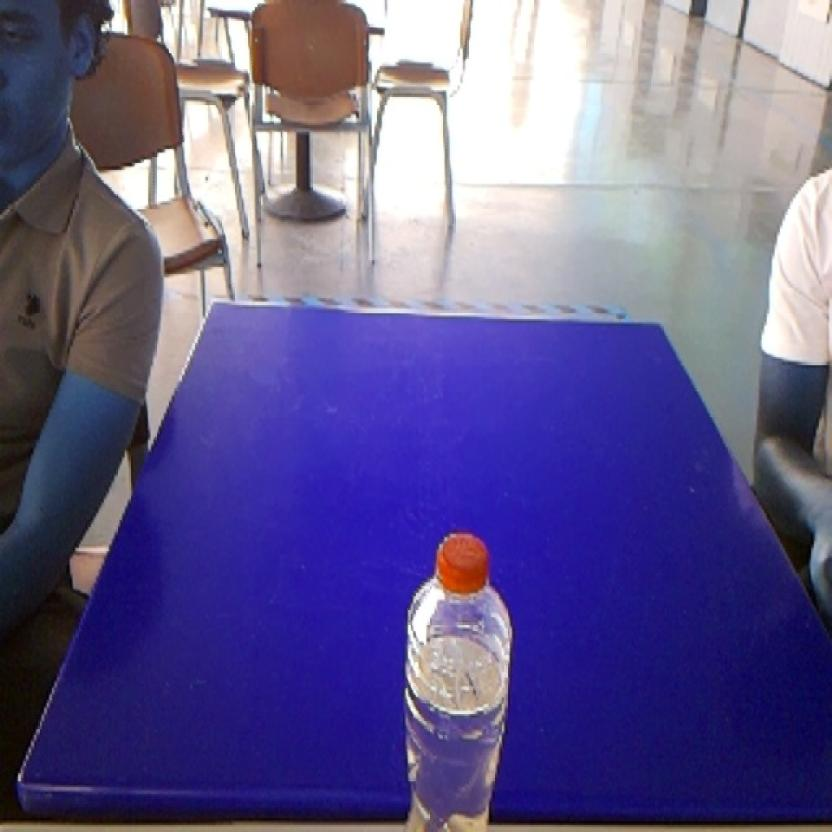no_label: (392, 522, 521, 825)
